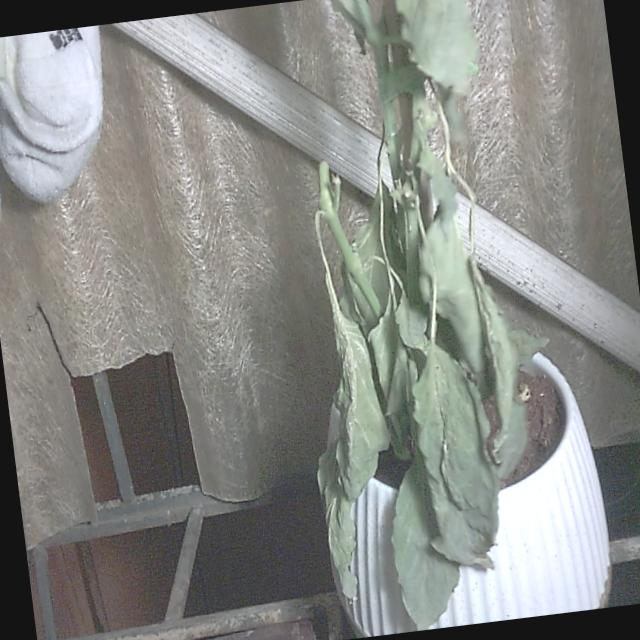Leaf: (410, 352, 504, 576), (319, 300, 400, 507)
